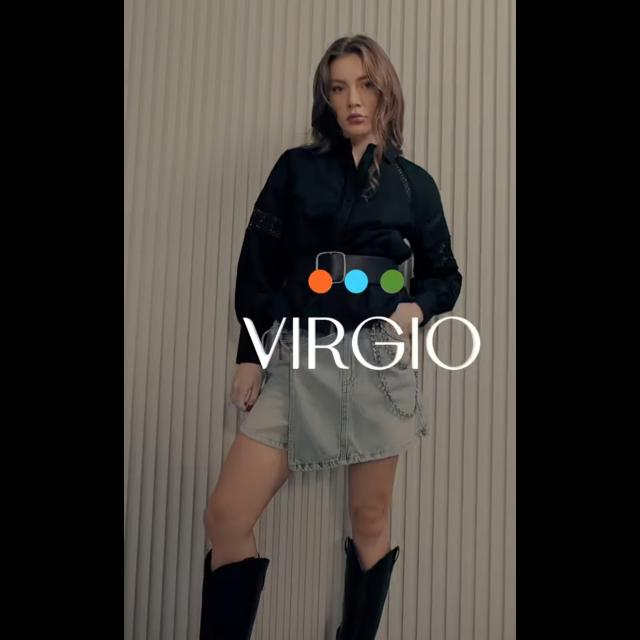bottom: (238, 332, 426, 478)
top: (221, 142, 455, 334)
